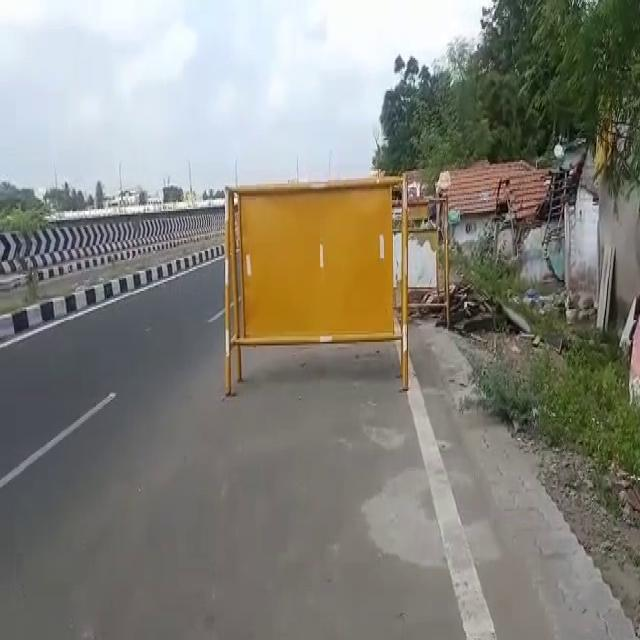fallen_object: (183, 167, 436, 394)
